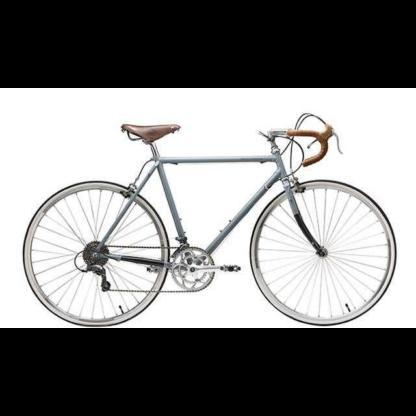Bicycle: (13, 100, 402, 328)
